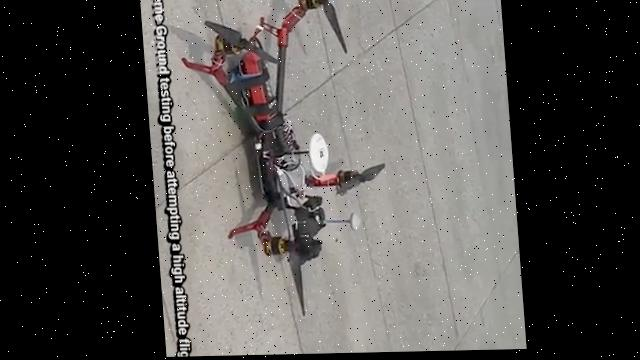drone: (175, 0, 395, 324)
